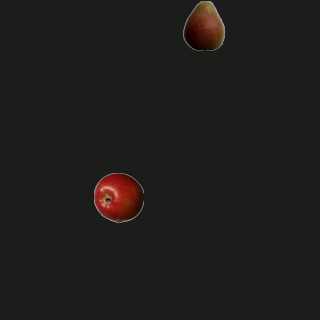Apple Braeburn: (93, 172, 143, 222)
Pear Forelle: (178, 0, 228, 50)
